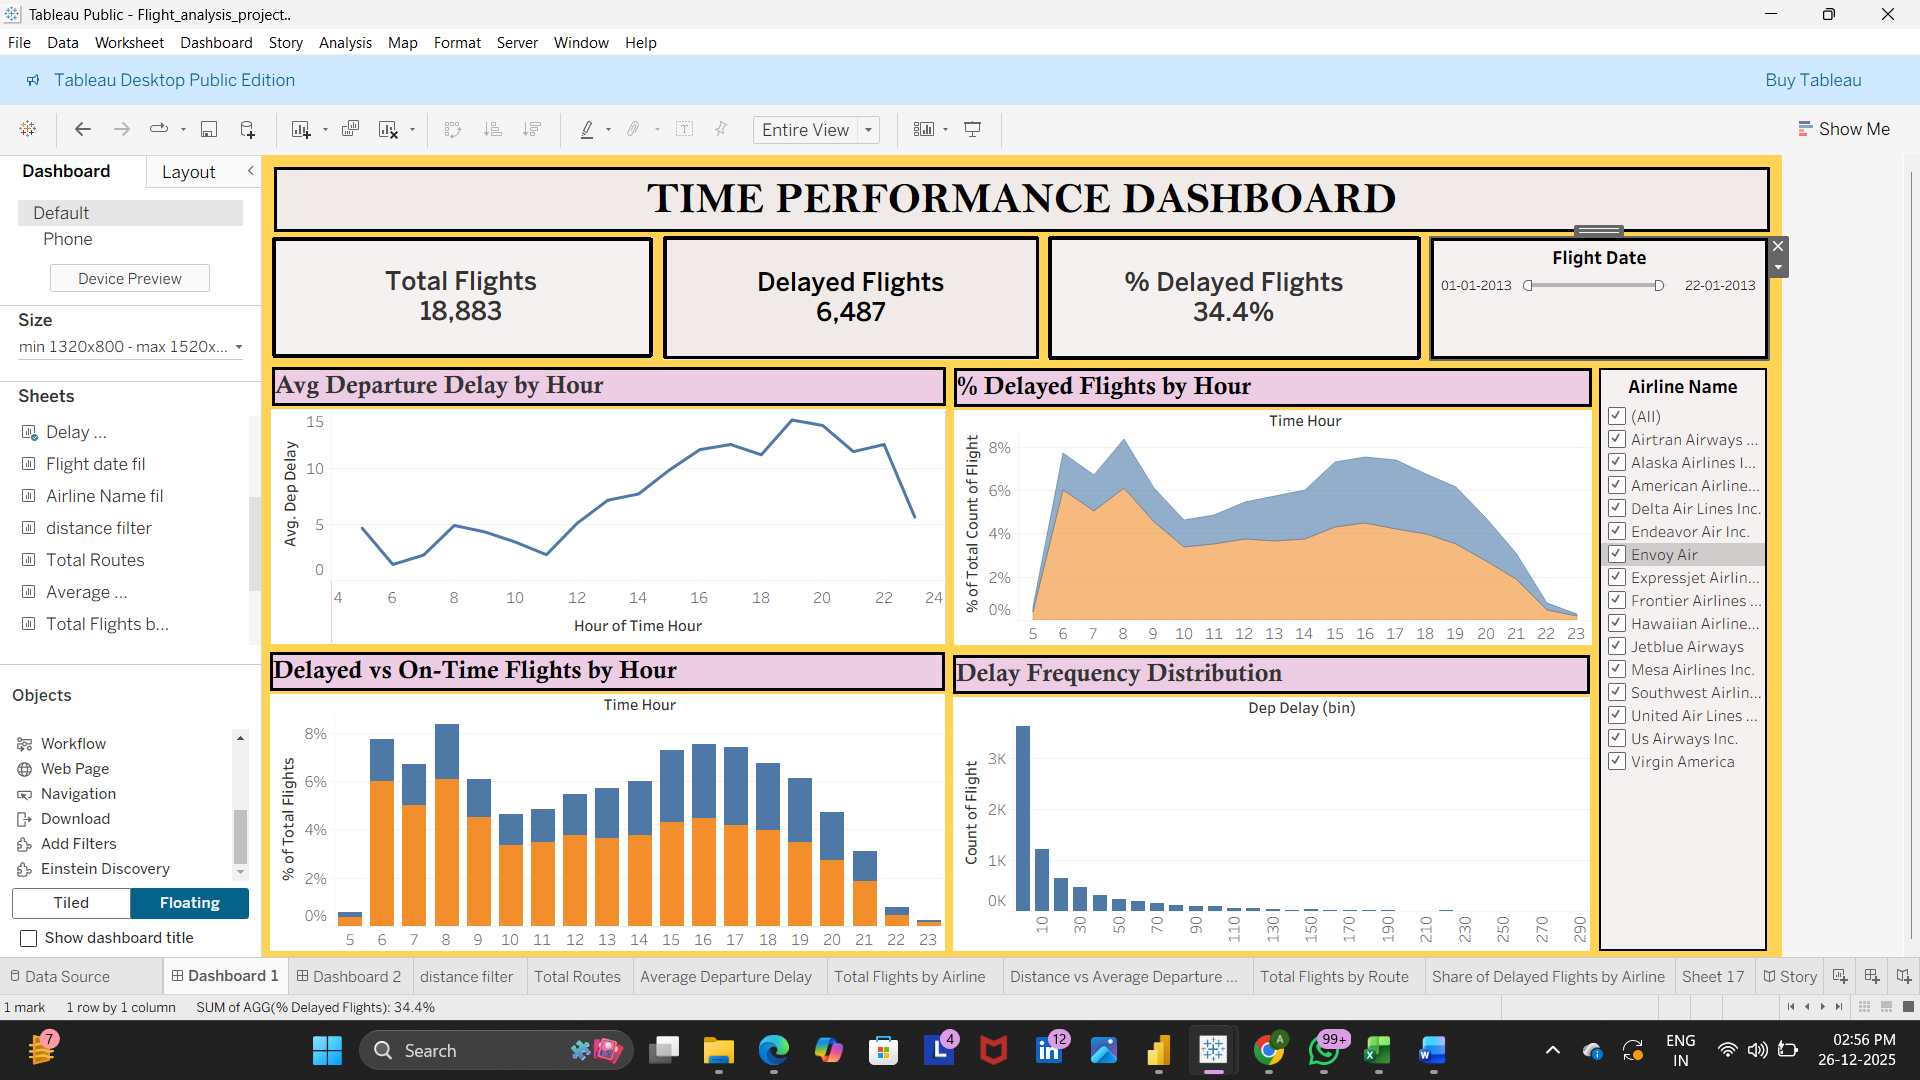

The page's visual inventory and layout, read from the dashboard file:
{"tool":"tableau","page":{"name":"Dashboard 1","canvas":[1000,1000],"units":"permille","ordinal":0},"visuals":[{"type":"title","box":[5.3,10,989.5,91]},{"type":"worksheet","title":"Delayed Flights ","mark":"Text","box":[263.8,101,248,154.6]},{"type":"worksheet","title":"% Delayed Flights","mark":"Automatic","box":[517.1,101,245.4,154.6]},{"type":"worksheet","title":"Total Flights ","mark":"Automatic","box":[6.6,102.2,251.3,150.9]},{"type":"filter","title":"% Delayed Flights","param":"[federated.08lciuz1svrqzo193fpnf0v0h9go].[none:flight_date:qk]","box":[769.1,103.5,221.7,150.9]},{"type":"worksheet","title":"Avg Departure Delay by Hour","mark":"Line","rows":["dep_delay"],"cols":["time_hour"],"box":[5.9,264.3,444.1,345.4]},{"type":"worksheet","title":"% Delayed Flights by Hour","mark":"Area","rows":["flight"],"cols":["time_hour"],"box":[455.3,265.6,419.7,345.4]},{"type":"filter","title":"% Delayed Flights","param":"[federated.08lciuz1svrqzo193fpnf0v0h9go].[none:airline_name:nk]","box":[879.6,265.6,110.5,726.9]},{"type":"worksheet","title":"Delayed vs On-Time Flights by Hour","mark":"Bar","rows":["flight"],"cols":["time_hour"],"box":[5.3,619.7,444.1,372.8]},{"type":"worksheet","title":"Delay Frequency Distribution","mark":"Bar","rows":["flight"],"cols":["Dep Delay (bin)"],"box":[454.6,623.4,419.1,369.1]}]}

Visuals, with their boxes on the dashboard's canvas, which has no fixed pixel size, in thousandths of its width and height (x1, y1, x2, y2). These are canvas units, not pixel positions in the 1920x1080 screenshot, which may show the page scaled, cropped or inside an application window:
title: 5:10:995:101
"Delayed Flights " worksheet (Text marks): 264:101:512:256
"% Delayed Flights" worksheet: 517:101:762:256
"Total Flights " worksheet: 7:102:258:253
"% Delayed Flights" filter: 769:104:991:254
"Avg Departure Delay by Hour" worksheet (Line marks): 6:264:450:610
"% Delayed Flights by Hour" worksheet (Area marks): 455:266:875:611
"% Delayed Flights" filter: 880:266:990:992
"Delayed vs On-Time Flights by Hour" worksheet (Bar marks): 5:620:449:992
"Delay Frequency Distribution" worksheet (Bar marks): 455:623:874:992
